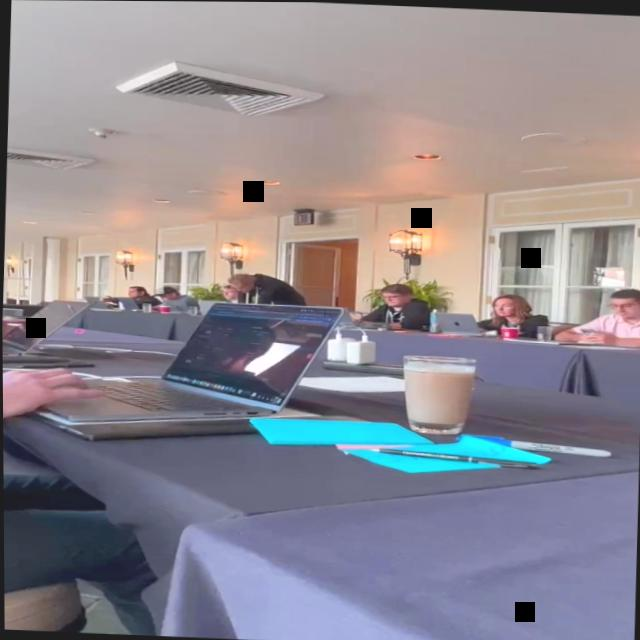NO-Mask: (612, 297, 640, 318), (491, 296, 513, 317), (383, 291, 405, 305), (222, 286, 235, 298), (231, 283, 247, 292), (126, 288, 140, 296), (156, 294, 169, 300)
